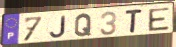3: (100, 11, 118, 36)
7: (24, 15, 44, 42)
E: (148, 6, 171, 32)
J: (49, 15, 67, 39)
Q: (73, 12, 93, 37)
T: (124, 9, 144, 34)
